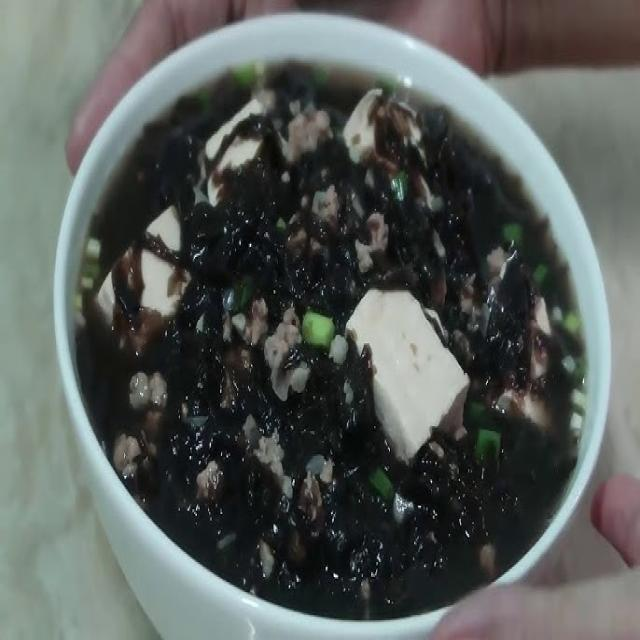canh rong bien: (91, 60, 578, 620)
